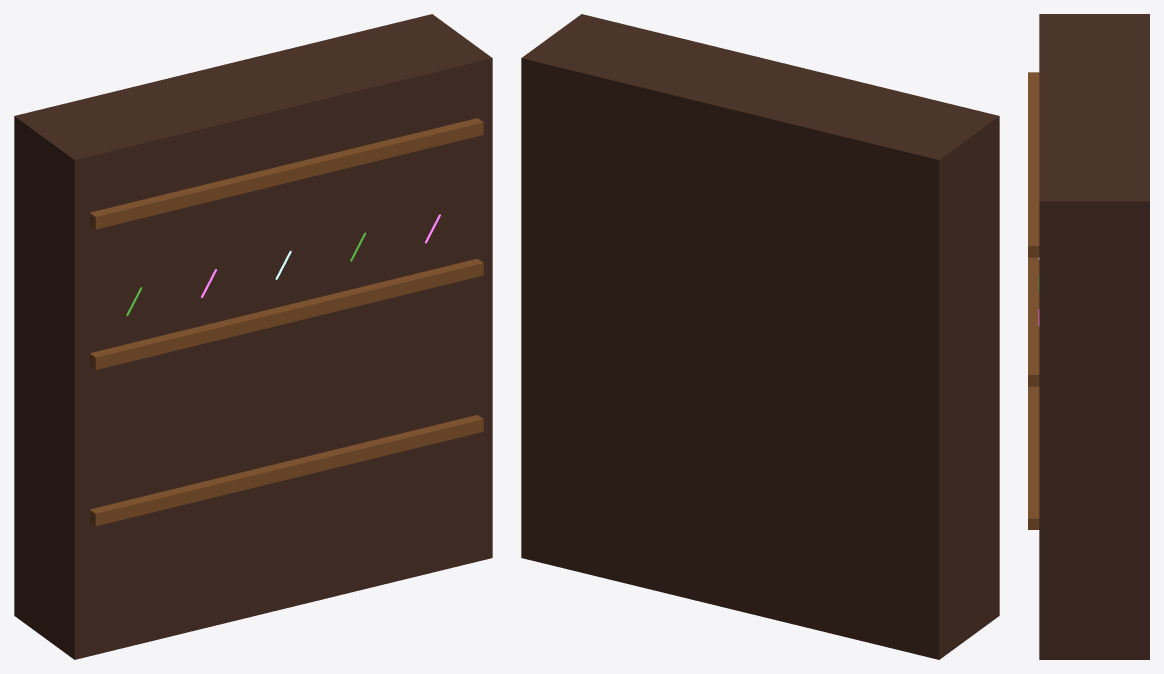
Rendered from potion_shelf.glb.
The picture shows the model from 3 angles, left to right: view 1: azimuth 30°, elevation 25°; view 2: azimuth 150°, elevation 25°; view 3: azimuth 270°, elevation 25°; orthographic projection. The views are drawn at different scales.
Visible parts, largest first — view 1: potion_shelf; view 2: potion_shelf; view 3: potion_shelf.
Boxes of the visible parts, left/top/right/bottom form: potion_shelf: left=14, top=14, right=492, bottom=659; potion_shelf: left=521, top=14, right=999, bottom=659; potion_shelf: left=1028, top=14, right=1149, bottom=659.
Bounding box in the file's own units: 1.4 × 1.6 × 0.385.
